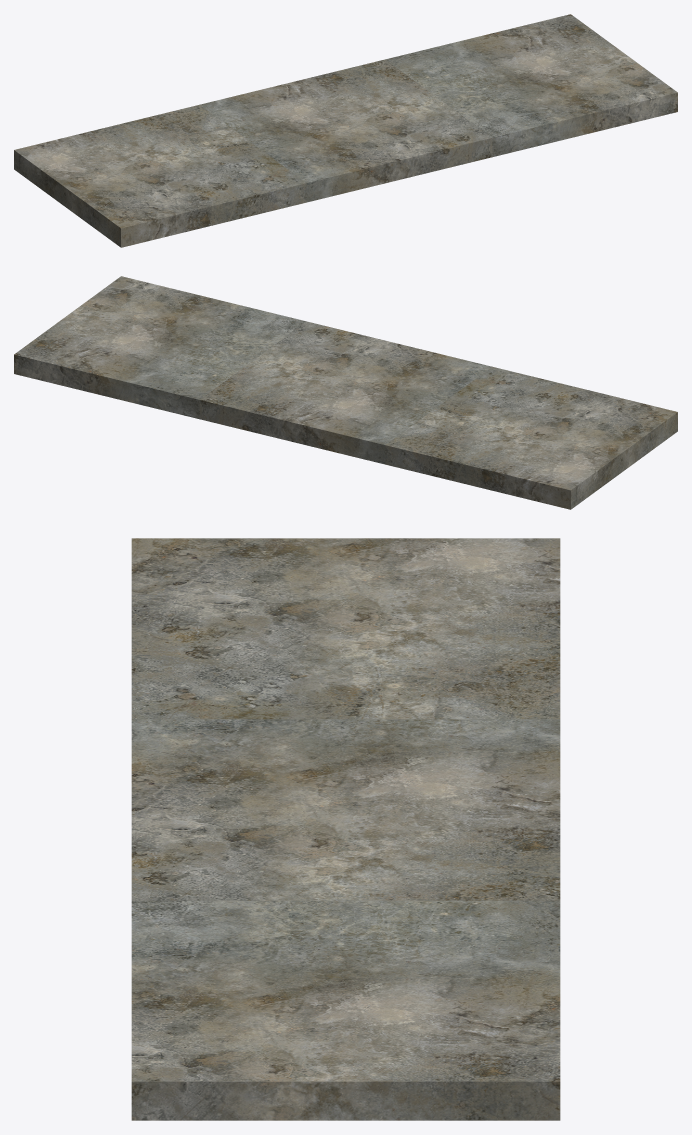
The model's file is Floor_1by3.fbx.
3 views of the same model, one above another, from view 1: azimuth 30°, elevation 25°; view 2: azimuth 150°, elevation 25°; view 3: azimuth 270°, elevation 25° (orthographic). The views are drawn at different scales.
Visible parts, largest first — view 1: Floor_1by3; view 2: Floor_1by3; view 3: Floor_1by3.
Part boxes in pixels (<box>): Floor_1by3: <box>14,14,677,247</box>; Floor_1by3: <box>14,276,677,509</box>; Floor_1by3: <box>131,538,560,1120</box>.
Size of the model in its own units: 300 by 10 by 100.
